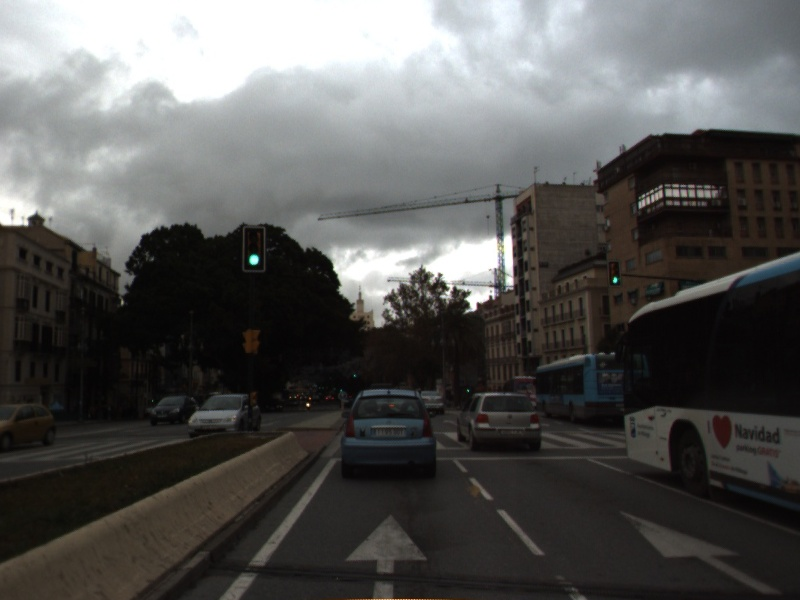STRAIGHT: (614, 505, 790, 600), (340, 508, 433, 600)
